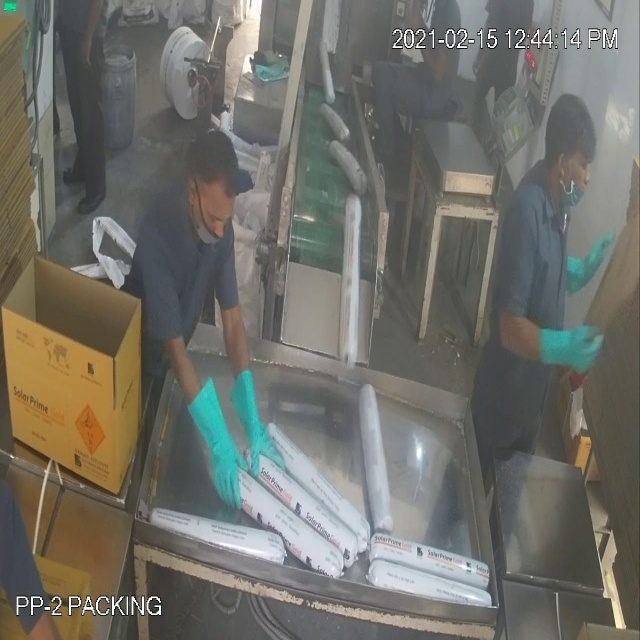Guantes: (181, 367, 249, 522), (215, 355, 290, 488), (529, 307, 609, 387), (562, 215, 617, 308)
Sin_guantes: (408, 2, 455, 81), (70, 1, 111, 82)
